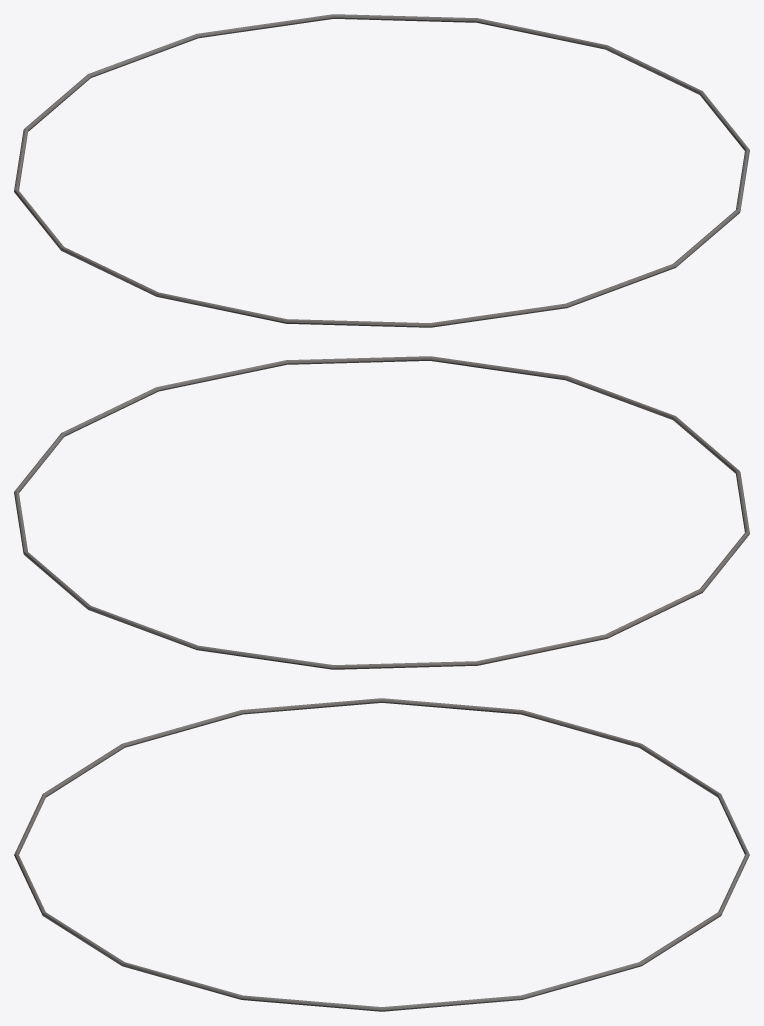
File: tesuri_soto.fbx
3 views of the same model, one above another, from view 1: azimuth 30°, elevation 25°; view 2: azimuth 150°, elevation 25°; view 3: azimuth 270°, elevation 25° (orthographic).
Parts seen in each view (by area): view 1: pTorus2; view 2: pTorus2; view 3: pTorus2.
Part boxes in pixels (x1,y1,x2,y2): pTorus2: [14, 14, 749, 327]; pTorus2: [14, 356, 749, 669]; pTorus2: [14, 698, 749, 1011].
Bounding box in the file's own units: 29.7 × 0.2 × 29.7.
1 material, 1 textured.
